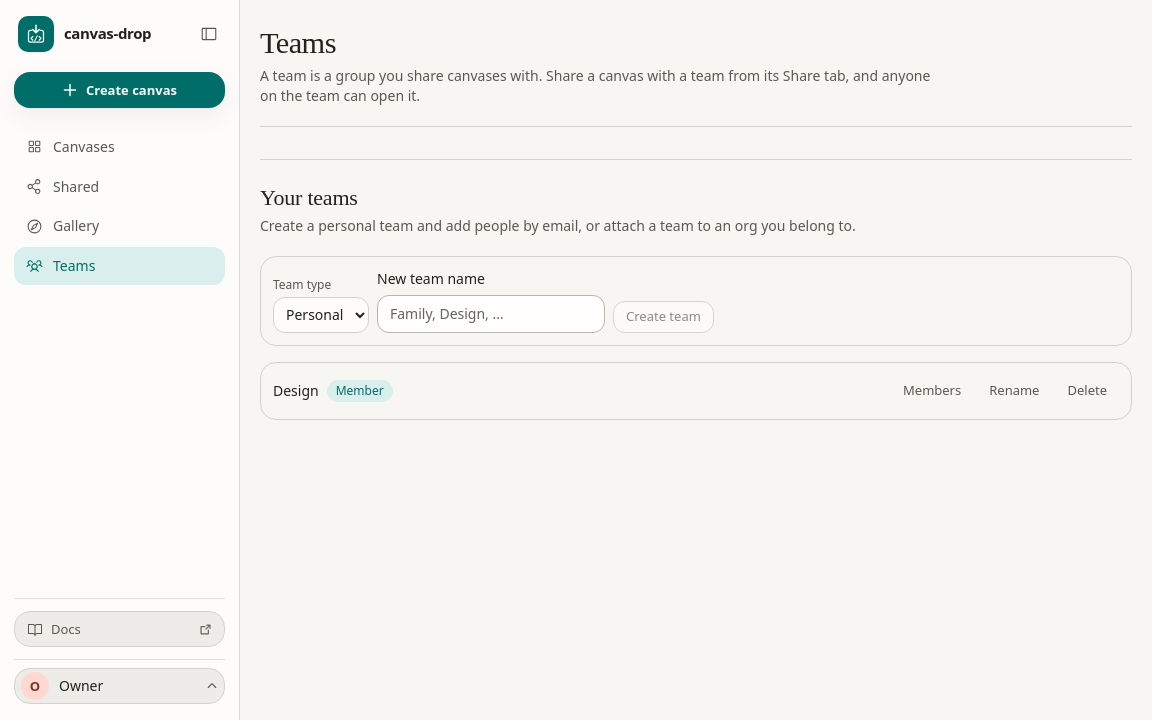
it: teams page › a member can cancel a pending invite from its roster row
This screenshot has width=1152, height=720.
Click the button "Members".
click(932, 390)  # box [891,374,973,406]
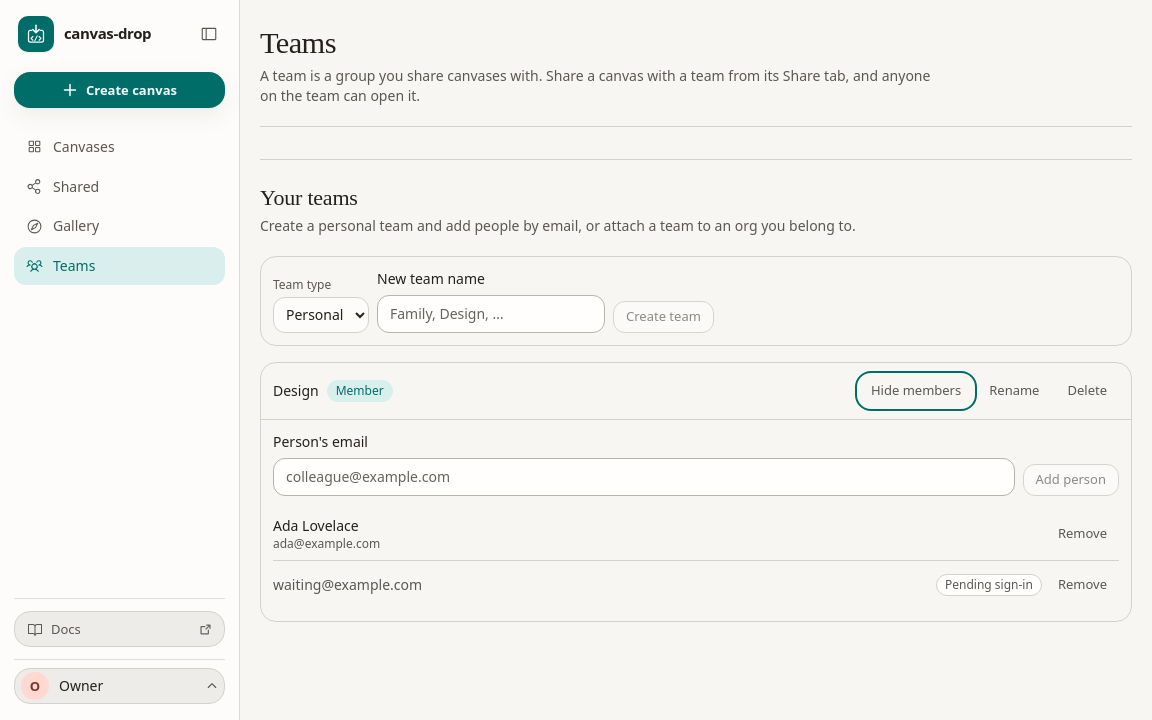
Check: the list item "waiting@example.com" is shown, box [273,574,422,594]
Click the button "Remove" next to "Pending sign-in".
click(1082, 584)  # box [1046,568,1119,600]
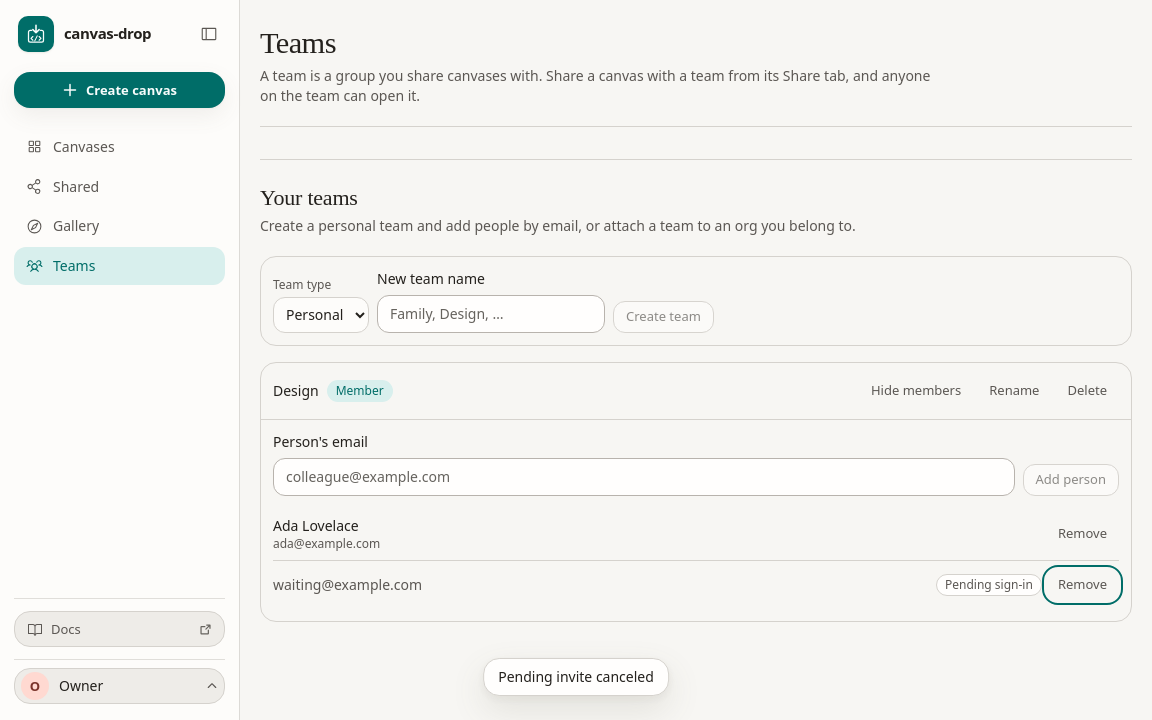
Check: the text "Pending invite canceled" is shown, box [483,658,669,696]
